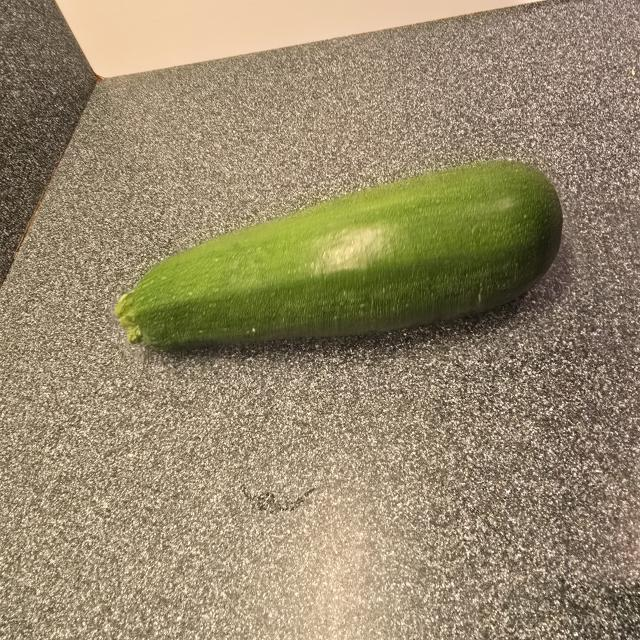Courgette: (115, 161, 562, 349)
